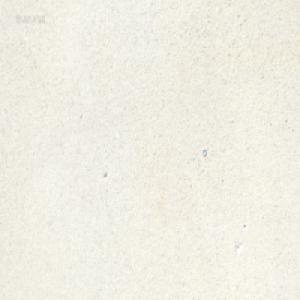Washer: (202, 148, 207, 157)
